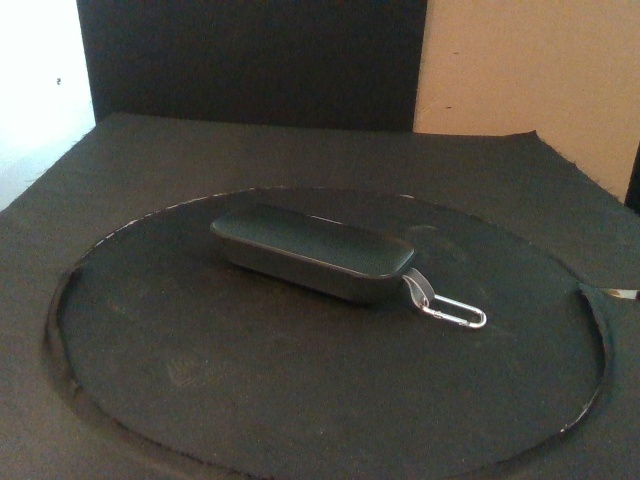speaker: (211, 200, 418, 306)
